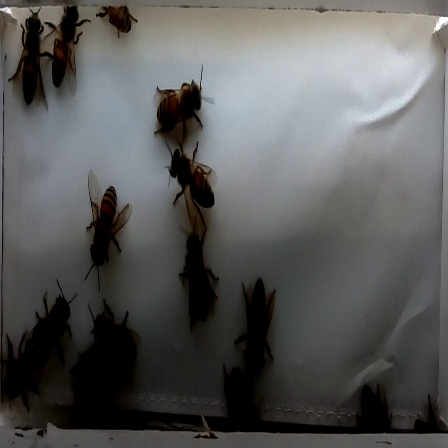bee: (72, 166, 135, 281), (169, 228, 227, 330), (226, 268, 285, 368), (161, 142, 227, 231), (149, 70, 219, 146), (84, 304, 151, 377), (24, 279, 80, 366), (47, 1, 94, 100), (11, 3, 52, 112), (1, 330, 44, 412)
